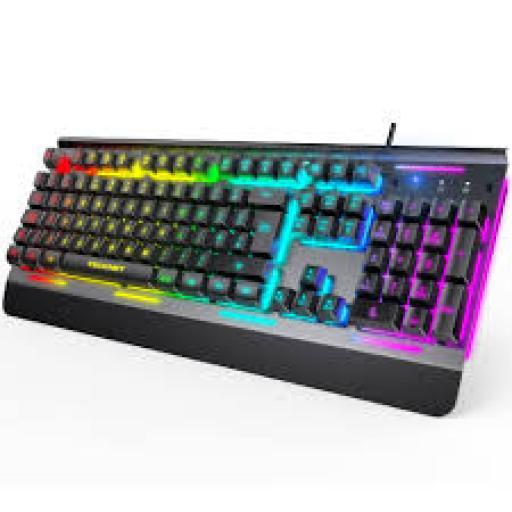KEYBOARD-2: (5, 134, 505, 414)
